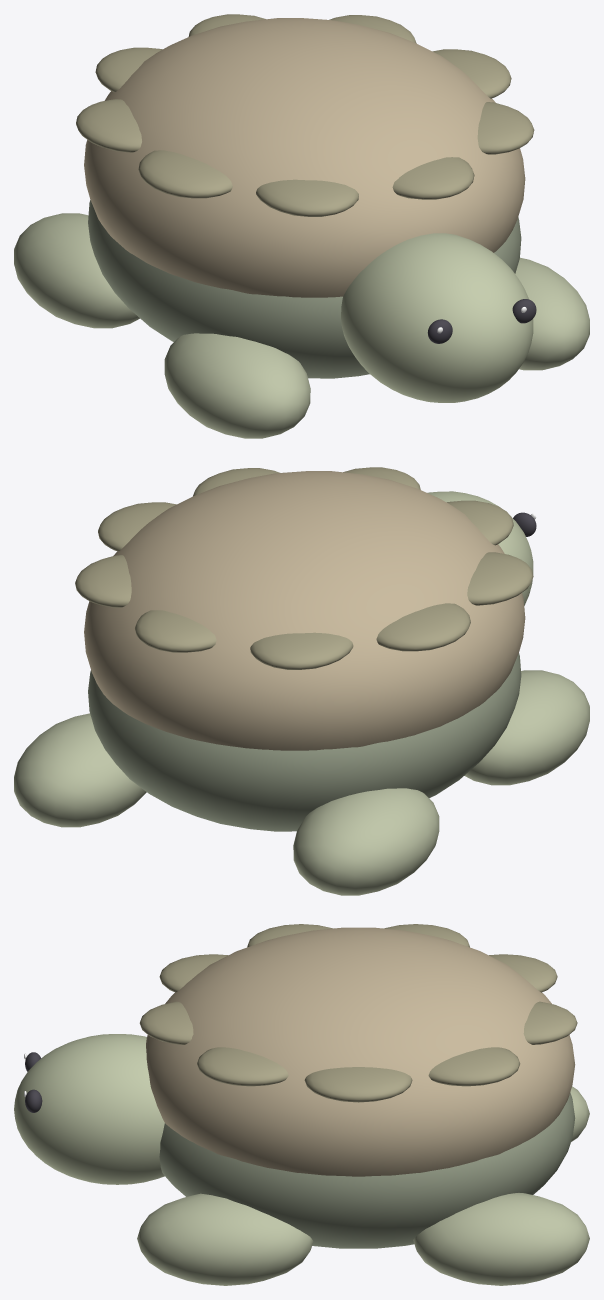
Rendered from other-tortoise.glb.
The picture shows the model from 3 angles, top to bottom: view 1: azimuth 30°, elevation 25°; view 2: azimuth 150°, elevation 25°; view 3: azimuth 270°, elevation 25°; orthographic projection. The views are drawn at different scales.
Visible parts, largest first — view 1: material_8a7450, material_7c865d, material_849063, material_625c3c, material_4f5940, material_100f13; view 2: material_8a7450, material_7c865d, material_4f5940, material_625c3c, material_849063; view 3: material_8a7450, material_7c865d, material_4f5940, material_849063, material_625c3c, material_100f13.
Boxes of the visible parts, x1,y1,x2,y2 form: material_8a7450: [84, 18, 525, 297]; material_7c865d: [14, 213, 589, 438]; material_849063: [341, 233, 533, 402]; material_625c3c: [76, 14, 534, 216]; material_4f5940: [88, 200, 521, 378]; material_100f13: [427, 299, 536, 343]; material_8a7450: [84, 471, 525, 750]; material_7c865d: [14, 670, 589, 895]; material_4f5940: [88, 653, 521, 831]; material_625c3c: [75, 467, 533, 669]; material_849063: [427, 491, 533, 605]; material_8a7450: [146, 927, 575, 1176]; material_7c865d: [137, 1086, 589, 1285]; material_4f5940: [159, 1092, 575, 1248]; material_849063: [14, 1034, 164, 1184]; material_625c3c: [139, 924, 577, 1102]; material_100f13: [25, 1052, 42, 1112].
Bounding box in the file's own units: 0.845 × 0.595 × 1.17.
